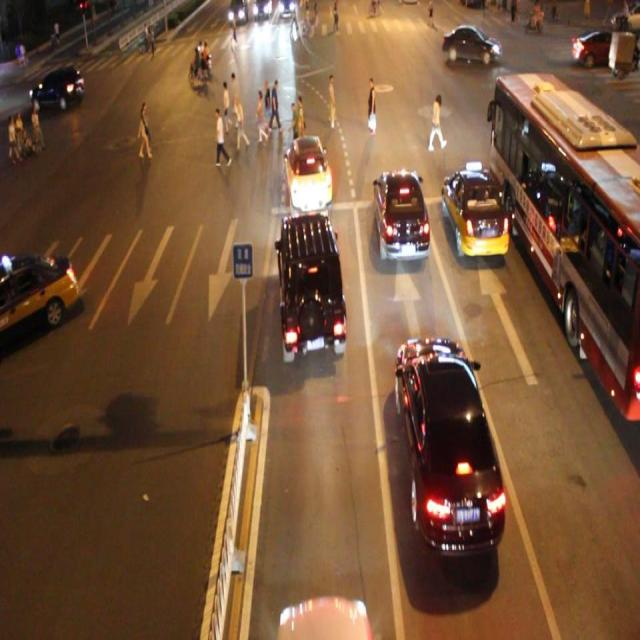car: (396, 334, 504, 555), (280, 212, 346, 357), (1, 251, 77, 343), (441, 170, 508, 260), (372, 167, 429, 264), (273, 591, 372, 640), (285, 133, 332, 211), (441, 23, 500, 68)
van: (491, 71, 640, 418)
